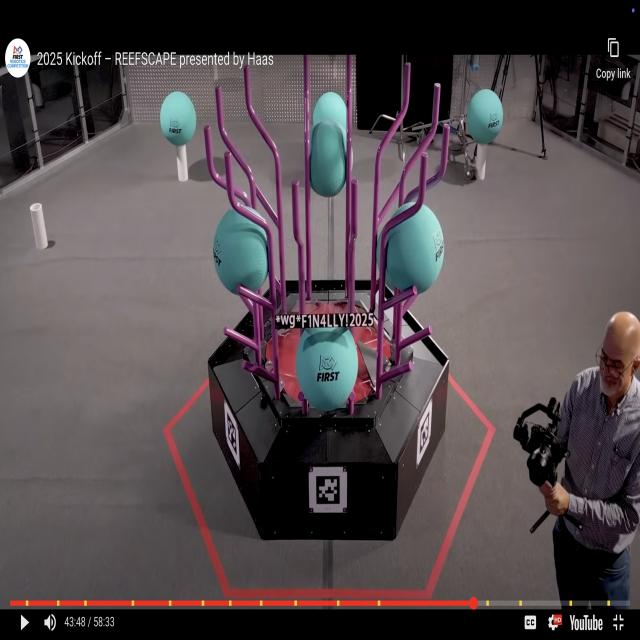algae: (377, 197, 444, 301), (296, 328, 358, 411), (213, 209, 269, 293), (310, 119, 347, 198), (465, 88, 503, 146), (160, 91, 196, 148), (312, 91, 346, 130)
coral: (29, 203, 52, 250), (474, 142, 489, 180), (176, 145, 188, 181)
